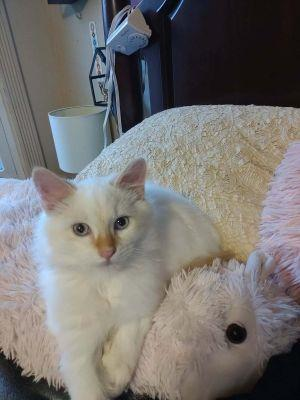siamese: (31, 150, 154, 281)
